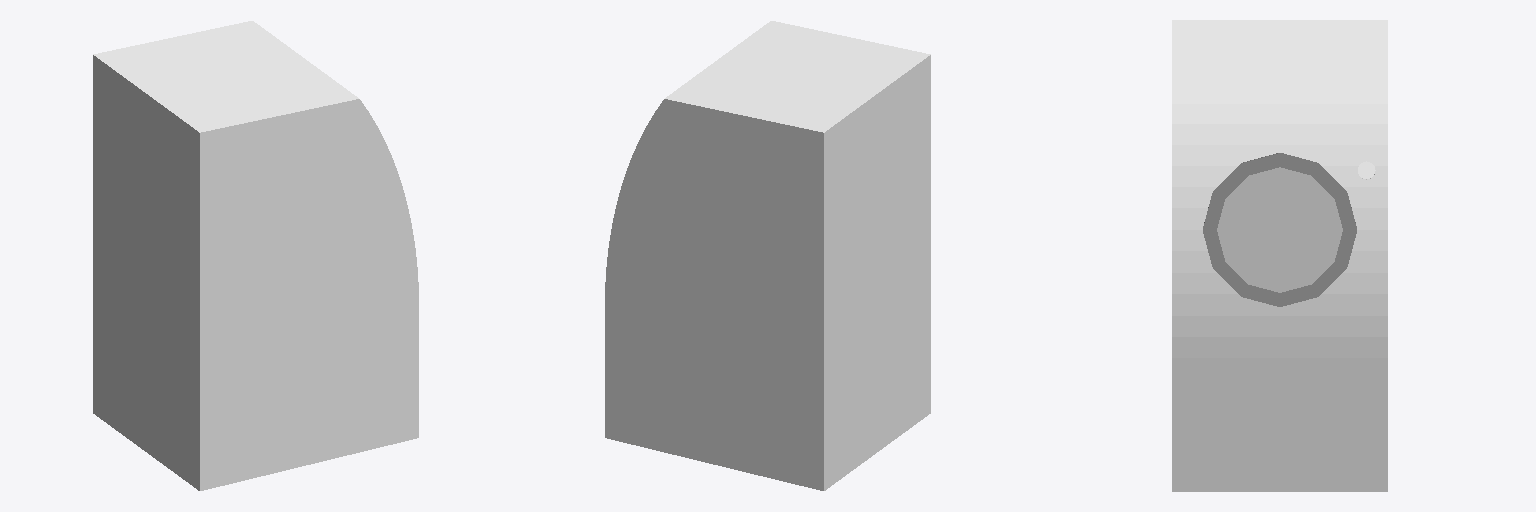
robot.urdf — room602-laundry-machine_static:
<?xml version="1.0"?>
<robot name="room602-laundry-machine_static"
       xmlns:xi="http://www.w3.org/2001/XInclude">
  <gazebo>
    <static>true</static>
  </gazebo>
  <link name="B0_link">
    <visual>
      <origin xyz="0 0 0" rpy="0 -0 0"/>
      <geometry>
        <mesh filename="model://room602-laundry-machine/meshes/B0_link_mesh.dae" scale="1 1 1" />
      </geometry>
    </visual>
    <collision>
      <origin xyz="0 0 0" rpy="0 -0 0"/>
      <geometry>
        <mesh filename="model://room602-laundry-machine/meshes/B0_link_mesh.dae" scale="1 1 1" />
      </geometry>
    </collision>
    <inertial>
      <mass value="0.001" />
      <origin xyz="0 0 0" rpy="0 -0 0"/>
      <inertia ixx="1e-03" ixy="0" ixz="0" iyy="1e-03" iyz="0" izz="1e-03"/>
    </inertial>
  </link>
  <gazebo reference="B0_link">
    <mu1>0.9</mu1>
    <mu2>0.9</mu2>
  </gazebo>
  <link name="CAP_link">
    <visual>
      <origin xyz="0.64 -0.21 0.77" rpy="7.97846e-17 1.22173 8.97491e-17"/>
      <geometry>
        <mesh filename="model://room602-laundry-machine/meshes/CAP_link_mesh.dae" scale="1 1 1" />
      </geometry>
    </visual>
    <collision>
      <origin xyz="0.64 -0.21 0.77" rpy="7.97846e-17 1.22173 8.97491e-17"/>
      <geometry>
        <mesh filename="model://room602-laundry-machine/meshes/CAP_link_mesh.dae" scale="1 1 1" />
      </geometry>
    </collision>
    <inertial>
      <mass value="0.001" />
      <origin xyz="0 0 0" rpy="0 -0 0"/>
      <inertia ixx="1e-09" ixy="-3.56322e-42" ixz="0" iyy="1e-09" iyz="0" izz="1e-09"/>
    </inertial>
  </link>
  <gazebo reference="CAP_link">
    <mu1>0.9</mu1>
    <mu2>0.9</mu2>
  </gazebo>
  <link name="BUTTON_link">
    <visual>
      <origin xyz="0.6 0.24 0.93" rpy="-5.17926e-17 1.0472 -6.19519e-17"/>
      <geometry>
        <mesh filename="model://room602-laundry-machine/meshes/BUTTON_link_mesh.dae" scale="1 1 1" />
      </geometry>
    </visual>
    <collision>
      <origin xyz="0.6 0.24 0.93" rpy="-5.17926e-17 1.0472 -6.19519e-17"/>
      <geometry>
        <mesh filename="model://room602-laundry-machine/meshes/BUTTON_link_mesh.dae" scale="1 1 1" />
      </geometry>
    </collision>
    <inertial>
      <mass value="0.001" />
      <origin xyz="0 0 0" rpy="0 -0 0"/>
      <inertia ixx="1e-09" ixy="3.10974e-42" ixz="-9.86076e-32" iyy="1e-09" iyz="1.14794e-41" izz="1e-09"/>
    </inertial>
  </link>
  <gazebo reference="BUTTON_link">
    <mu1>0.9</mu1>
    <mu2>0.9</mu2>
  </gazebo>
  <joint name="JOINT0" type="revolute">
    <parent link="B0_link"/>
    <child  link="CAP_link"/>
    <origin xyz="0.64 -0.21 0.77" rpy="7.97846e-17 1.22173 8.97491e-17 "/>
    <axis   xyz="1 0 0"/>
    <limit lower="0" upper="3.14159" effort="100" velocity="0.5" />
    <dynamics damping="0.2" friction="0" />
  </joint>
  <transmission type="pr2_mechanism_model/SimpleTransmission" name="JOINT0_trans" >
    <actuator name="JOINT0_motor" />
    <joint name="JOINT0" />
    <mechanicalReduction>1</mechanicalReduction>
  </transmission>
  <gazebo reference="JOINT0">
    <cfmDamping>0.4</cfmDamping>
  </gazebo>
  <joint name="JOINT1" type="prismatic">
    <parent link="B0_link"/>
    <child  link="BUTTON_link"/>
    <origin xyz="0.6 0.24 0.93" rpy="-5.17926e-17 1.0472 -6.19519e-17 "/>
    <axis   xyz="0 0 1"/>
    <limit lower="-0.09" upper="0.09" effort="100" velocity="0.01" />
    <dynamics damping="0.2" friction="0" />
  </joint>
  <transmission type="pr2_mechanism_model/SimpleTransmission" name="JOINT1_trans" >
    <actuator name="JOINT1_motor" />
    <joint name="JOINT1" />
    <mechanicalReduction>1</mechanicalReduction>
  </transmission>
  <gazebo reference="JOINT1">
    <cfmDamping>0.4</cfmDamping>
  </gazebo>
</robot>

--- Render facts (derived) ---
The picture shows the robot from 3 angles, left to right: view 1: azimuth 30°, elevation 25°; view 2: azimuth 150°, elevation 25°; view 3: azimuth 270°, elevation 25°; orthographic projection.
Robot: room602-laundry-machine_static — 3 links, 2 joints (1 revolute, 1 prismatic); root link B0_link; default pose: all joints at 0.
Visible links, largest first — view 1: B0_link; view 2: B0_link; view 3: B0_link, CAP_link.
Link boxes in pixels (<box>): B0_link: <box>93,21,418,490</box>; B0_link: <box>605,21,930,490</box>; B0_link: <box>1172,20,1387,491</box>; CAP_link: <box>1203,153,1356,306</box>.
Size in the robot's own frame: 0.7417 by 0.6 by 1.11 metres.
Meshes: 3 distinct files referenced, 3 mesh visuals loaded (3 Collada DAE).